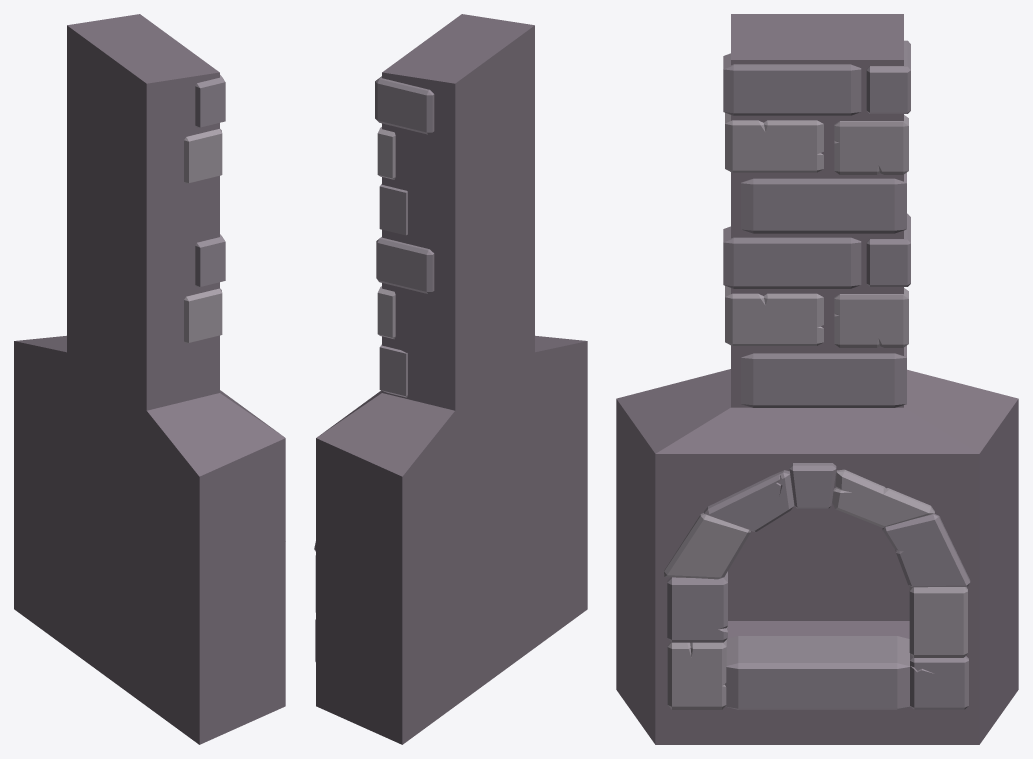
Rendered from oven.fbx.
3 renders of one model, left to right at view 1: azimuth 30°, elevation 25°; view 2: azimuth 150°, elevation 25°; view 3: azimuth 270°, elevation 25°, orthographic. The views are drawn at different scales.
Visible parts, largest first — view 1: pCube205; view 2: pCube205; view 3: pCube205.
Boxes of the visible parts, x1,y1,x2,y2 form: pCube205: (14,14,285,744); pCube205: (314,14,587,744); pCube205: (616,14,1018,744).
Bounding box in the file's own units: 0.5768 × 3.03 × 1.64.
